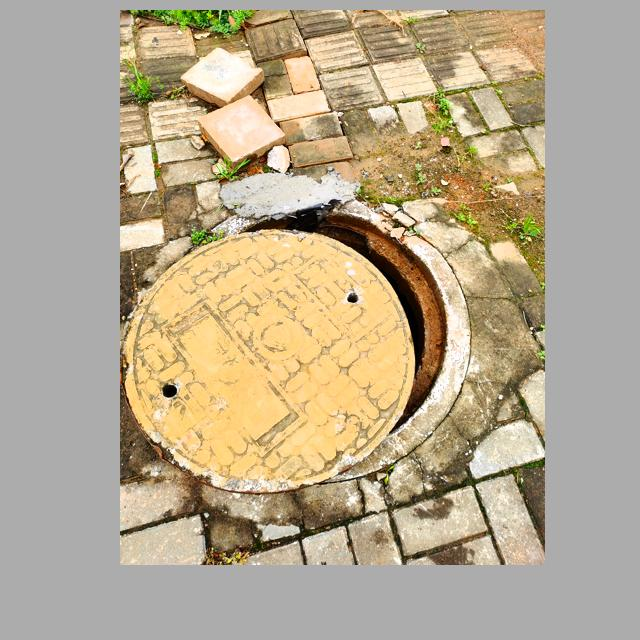uncovered: (168, 209, 466, 463)
